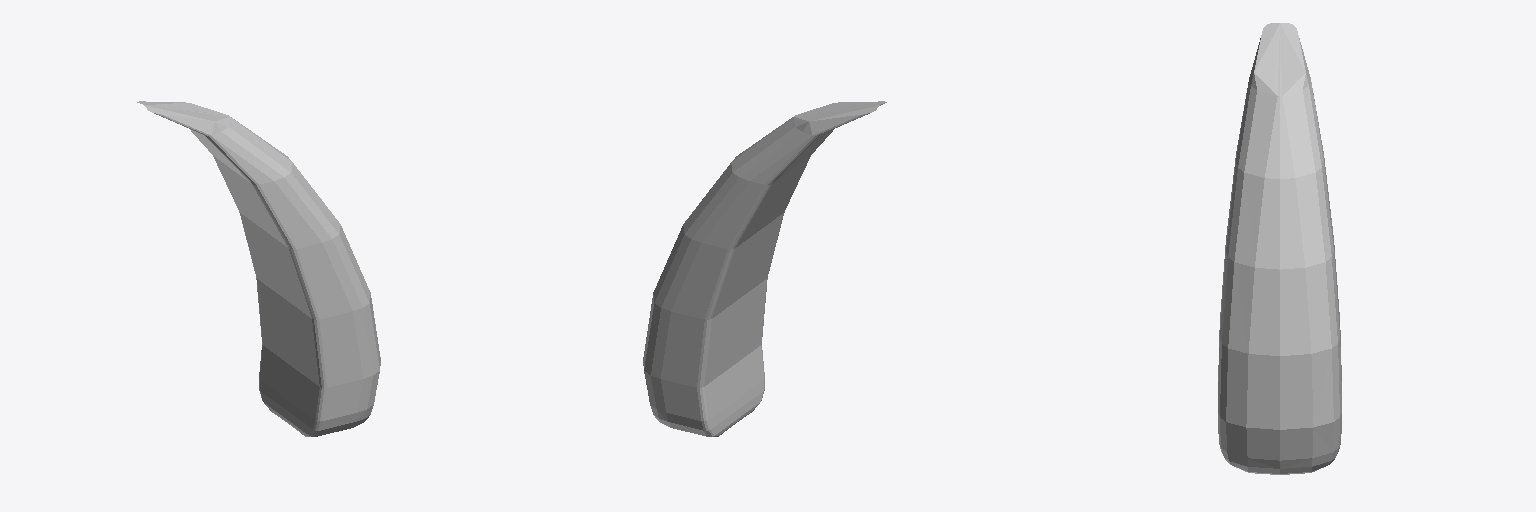
Rendered from character_duck.obj.
The picture shows the model from 3 angles: view 1: azimuth 30°, elevation 25°; view 2: azimuth 150°, elevation 25°; view 3: azimuth 270°, elevation 25°; orthographic projection.
Bounding box in the file's own units: 0.3802 × 0.5708 × 0.1812.